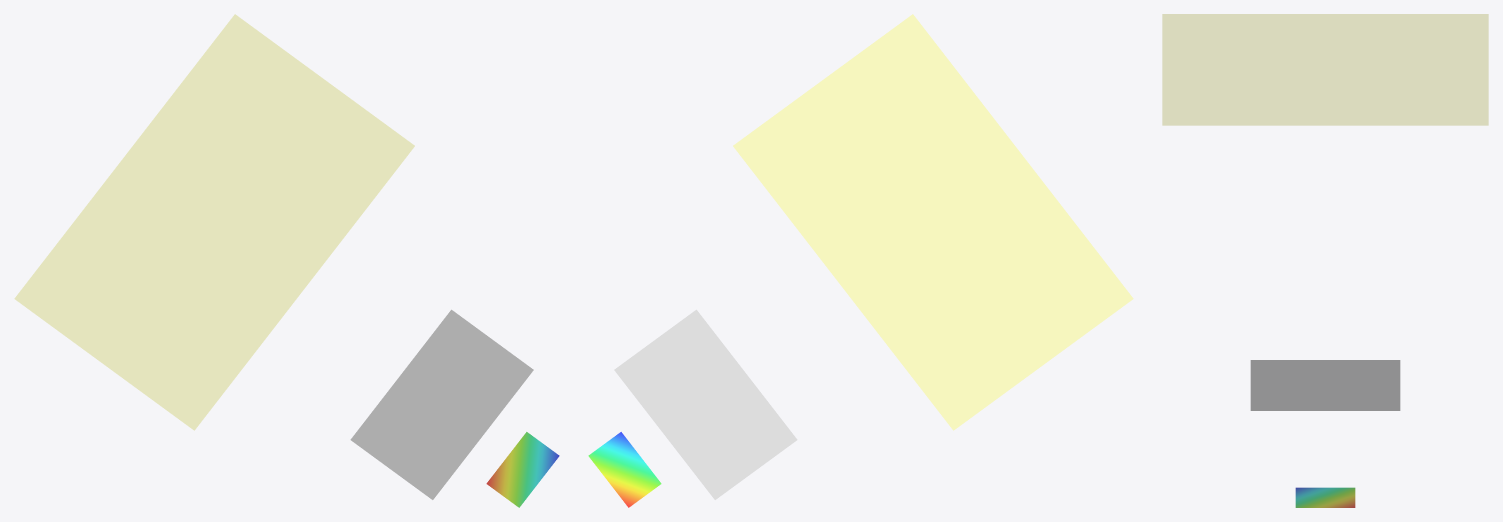
File: teapot scene three.glb
3 views of the same model, side by side, from view 1: azimuth 30°, elevation 25°; view 2: azimuth 150°, elevation 25°; view 3: azimuth 270°, elevation 25° (orthographic). The views are drawn at different scales.
Parts seen in each view (by area): view 1: plane.003, plane.002, plane.004; view 2: plane.003, plane.002, plane.004; view 3: plane.003, plane.002, plane.004.
Part boxes in pixels (box(x1,y1,x2,y2)): plane.003: box(15, 14, 414, 429); plane.002: box(350, 309, 533, 499); plane.004: box(486, 432, 559, 507); plane.003: box(733, 14, 1132, 429); plane.002: box(614, 309, 797, 499); plane.004: box(588, 432, 661, 507); plane.003: box(1162, 14, 1488, 125); plane.002: box(1250, 360, 1400, 410); plane.004: box(1295, 487, 1355, 507).
Size of what is drawn, in the model's own units: 12.28 by 12.28 by 8.74.
3 materials, 3 textured.
